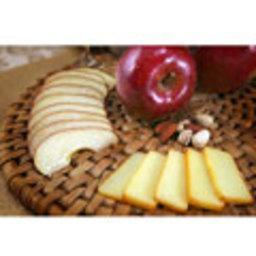apple: (116, 45, 201, 121)
